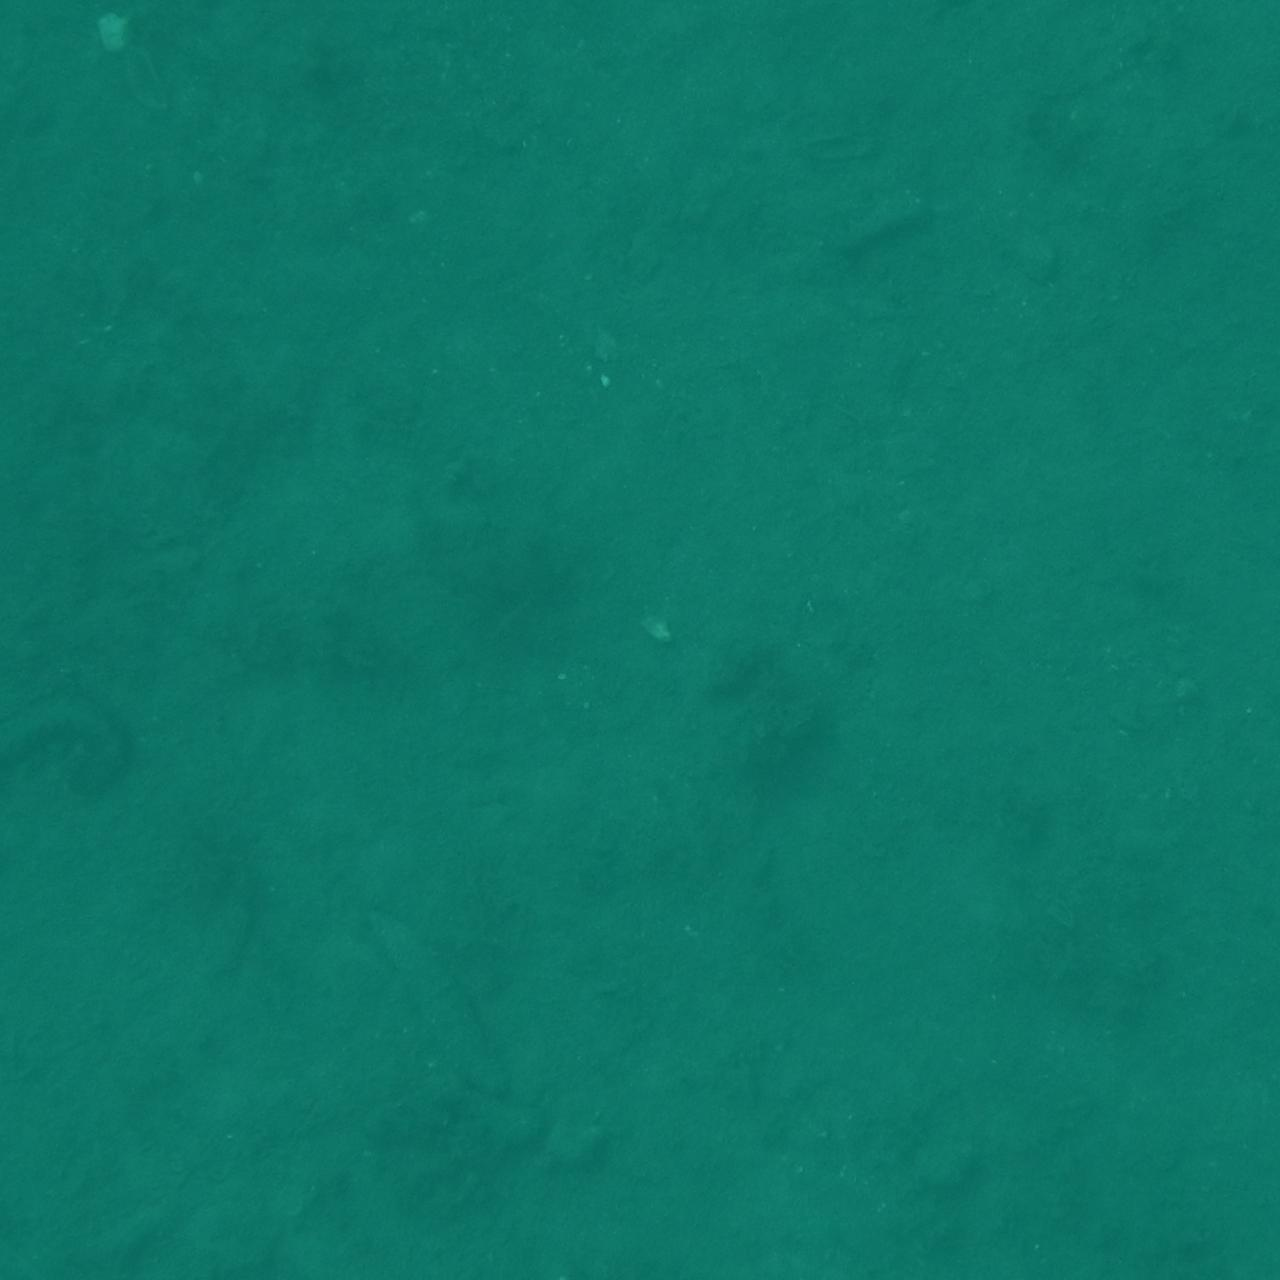Holothuria tubulosa: (1001, 1179, 1257, 1280), (0, 461, 125, 644), (0, 670, 136, 811), (1189, 610, 1280, 797), (0, 0, 118, 144), (873, 0, 1090, 79), (723, 1220, 987, 1280), (1157, 114, 1280, 241), (1126, 325, 1280, 422), (0, 1150, 105, 1280), (805, 159, 933, 260), (0, 1186, 137, 1280), (1110, 1208, 1280, 1280), (1152, 865, 1280, 949), (0, 192, 52, 396), (399, 1175, 497, 1280), (1219, 926, 1280, 1096), (0, 0, 89, 111), (1207, 0, 1280, 136), (1207, 1148, 1280, 1280), (0, 0, 63, 130), (1228, 1141, 1280, 1280), (0, 0, 111, 61), (0, 0, 156, 41), (0, 0, 86, 64), (1214, 0, 1280, 62)
Rifiuto: (0, 1170, 135, 1280)
